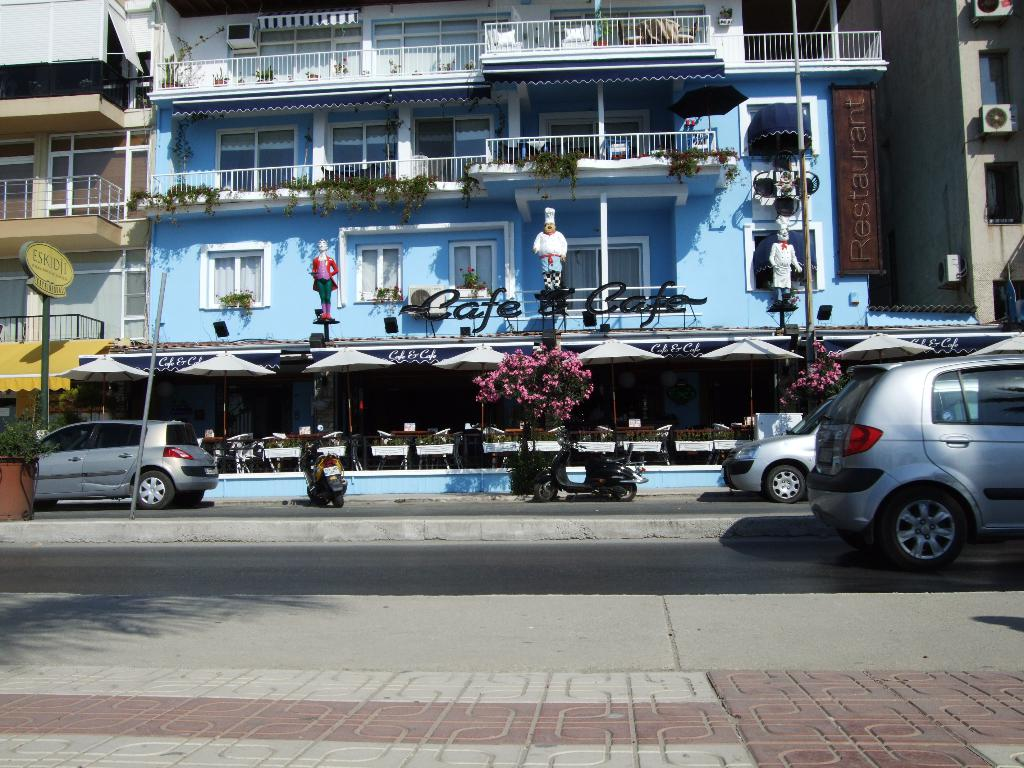Car: (808, 351, 1023, 576), (33, 415, 221, 510), (721, 398, 831, 503)
